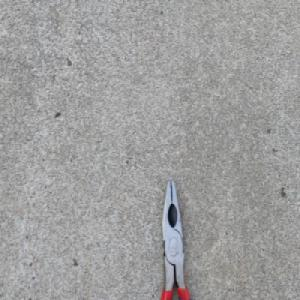Pliers: (156, 177, 193, 300)
